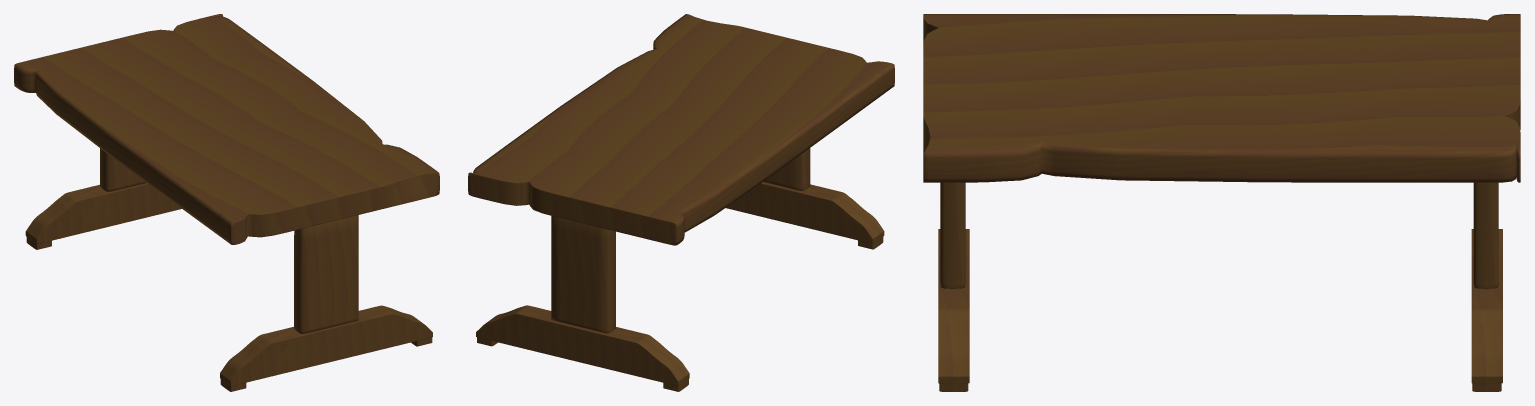
File: mesa.fbx
3 renders of one model, left to right at view 1: azimuth 30°, elevation 25°; view 2: azimuth 150°, elevation 25°; view 3: azimuth 270°, elevation 25°, orthographic. The views are drawn at different scales.
Visible parts, largest first — view 1: Cube, Cube.002, Cube.001, Cube.004, Cube.003; view 2: Cube, Cube.004, Cube.003, Cube.002, Cube.001; view 3: Cube, Cube.002, Cube.004, Cube.001, Cube.003.
Boxes of the visible parts, box(x1,y1,x2,y2) form: Cube: box(14, 14, 439, 244); Cube.002: box(220, 305, 432, 391); Cube.001: box(294, 215, 358, 333); Cube.004: box(25, 183, 181, 249); Cube.003: box(100, 148, 146, 191); Cube: box(468, 14, 894, 245); Cube.004: box(476, 305, 689, 391); Cube.003: box(551, 216, 615, 333); Cube.002: box(726, 182, 884, 249); Cube.001: box(763, 148, 810, 190); Cube: box(923, 14, 1520, 182); Cube.002: box(938, 229, 969, 391); Cube.004: box(1471, 229, 1502, 391); Cube.001: box(940, 182, 965, 288); Cube.003: box(1473, 182, 1498, 288).
Bounding box in the file's own units: 73.67 × 58.97 × 133.
3 materials, 3 textured.
